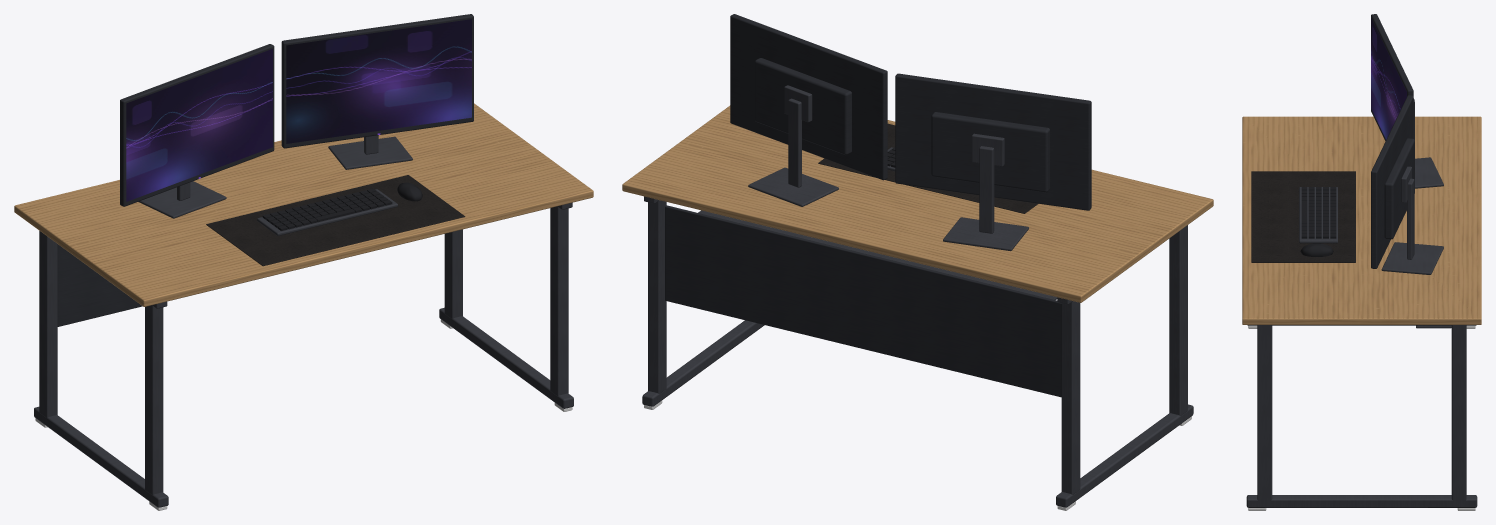
The model's file is desk_monitors.glb.
3 renders of one model, left to right at view 1: azimuth 30°, elevation 25°; view 2: azimuth 150°, elevation 25°; view 3: azimuth 270°, elevation 25°, orthographic. The views are drawn at different scales.
Visible parts, largest first — view 1: top_wood_oak_0, glass_l_screen_0, glass_r_screen_0, leg_r_alloy_dark_0, top_leather_black_1, leg_l_alloy_dark_0, modesty_graphite_0, monitor_l_graphite_0, monitor_r_graphite_0, keyboard_plastic_dark_1, stand_l_alloy_dark_0, stand_r_alloy_dark_0 (+1 smaller); view 2: top_wood_oak_0, modesty_graphite_0, monitor_r_graphite_0, monitor_l_graphite_0, leg_r_alloy_dark_0, monitor_r_graphite_1, leg_l_alloy_dark_0, monitor_l_graphite_1, stand_r_alloy_dark_0, stand_l_alloy_dark_0, modesty_alloy_dark_1, top_leather_black_1; view 3: top_wood_oak_0, leg_l_alloy_dark_0, top_leather_black_1, monitor_l_graphite_0, glass_r_screen_0, stand_l_alloy_dark_0, monitor_l_graphite_1, keyboard_plastic_dark_1, keyboard_alloy_dark_0, stand_r_alloy_dark_0, monitor_r_graphite_0, mouse_plastic_dark_0.
Boxes of the visible parts, x1,y1,x2,y2 form: top_wood_oak_0: [14, 103, 593, 306]; glass_l_screen_0: [286, 19, 471, 143]; glass_r_screen_0: [126, 49, 272, 201]; leg_r_alloy_dark_0: [34, 231, 168, 507]; top_leather_black_1: [206, 175, 465, 266]; leg_l_alloy_dark_0: [439, 202, 573, 408]; modesty_graphite_0: [57, 244, 142, 326]; monitor_l_graphite_0: [281, 14, 473, 148]; monitor_r_graphite_0: [120, 44, 274, 206]; keyboard_plastic_dark_1: [262, 188, 392, 230]; stand_l_alloy_dark_0: [328, 135, 412, 169]; stand_r_alloy_dark_0: [138, 181, 226, 218]; top_wood_oak_0: [622, 105, 1213, 302]; modesty_graphite_0: [665, 205, 1061, 397]; monitor_r_graphite_0: [895, 73, 1091, 210]; monitor_l_graphite_0: [730, 14, 887, 180]; leg_r_alloy_dark_0: [1056, 225, 1193, 507]; monitor_r_graphite_1: [931, 112, 1050, 192]; leg_l_alloy_dark_0: [642, 196, 764, 406]; monitor_l_graphite_1: [755, 58, 851, 154]; stand_r_alloy_dark_0: [943, 133, 1028, 251]; stand_l_alloy_dark_0: [748, 85, 838, 206]; modesty_alloy_dark_1: [698, 210, 1057, 299]; top_leather_black_1: [818, 123, 1038, 213]; top_wood_oak_0: [1242, 116, 1481, 324]; leg_l_alloy_dark_0: [1246, 325, 1477, 507]; top_leather_black_1: [1251, 171, 1355, 262]; monitor_l_graphite_0: [1371, 95, 1413, 268]; glass_r_screen_0: [1371, 18, 1406, 139]; stand_l_alloy_dark_0: [1381, 166, 1443, 274]; monitor_l_graphite_1: [1384, 138, 1414, 239]; keyboard_plastic_dark_1: [1301, 187, 1336, 238]; keyboard_alloy_dark_0: [1299, 187, 1337, 243]; stand_r_alloy_dark_0: [1413, 98, 1443, 188]; monitor_r_graphite_0: [1371, 14, 1413, 140]; mouse_plastic_dark_0: [1300, 243, 1333, 256].
Size of what is drawn, in the model's own units: 1.6 by 1.2 by 0.8.
12 materials, 10 textured.
